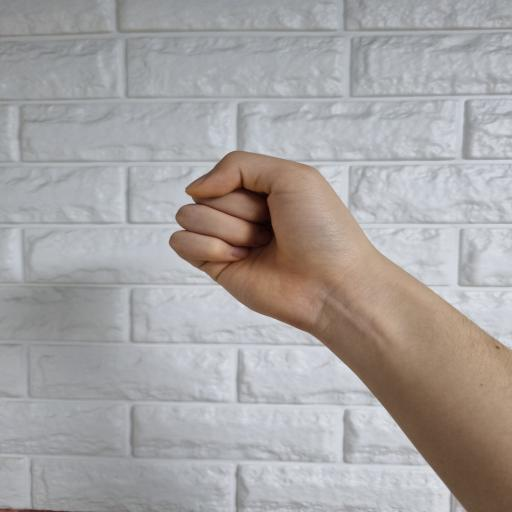Rock: (169, 151, 378, 331)
